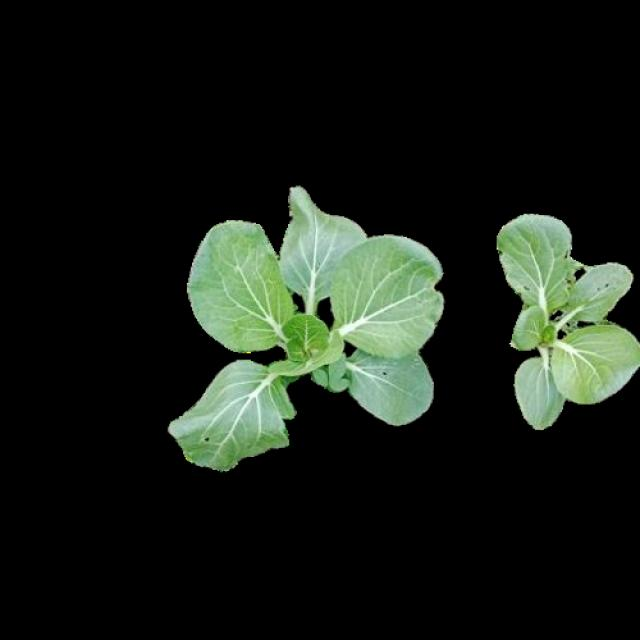not-mature: (172, 188, 446, 471), (499, 213, 640, 428)
unhealthy: (349, 344, 436, 426), (501, 215, 572, 309), (570, 262, 632, 320)
